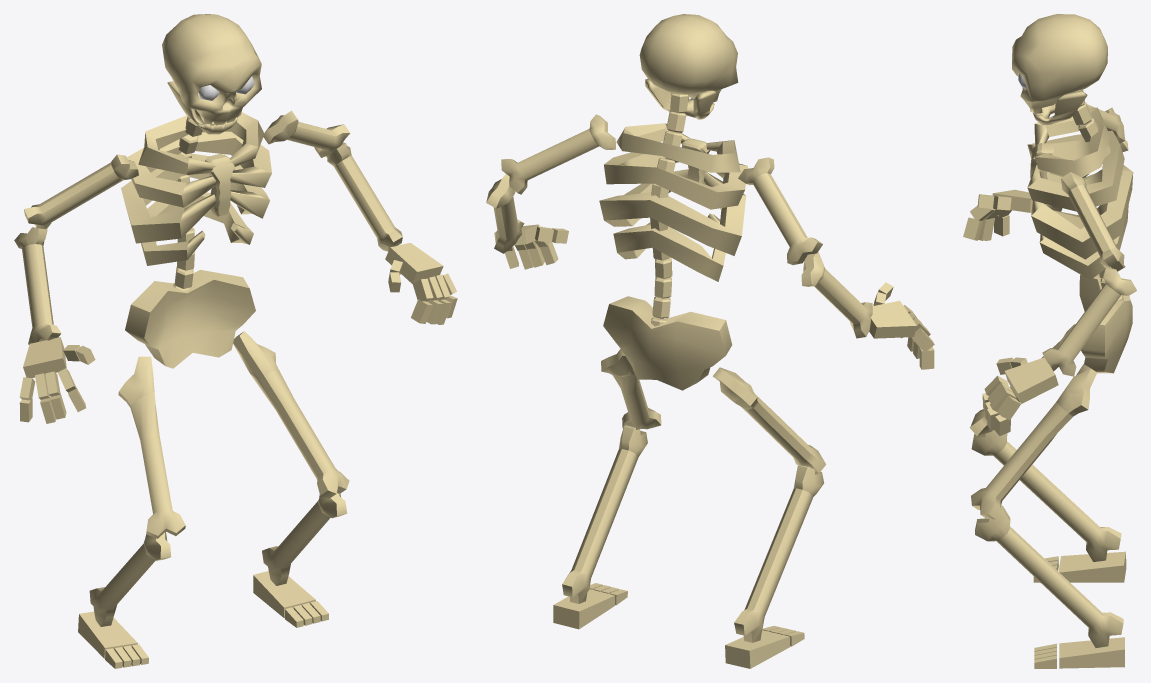
The model's file is skeleton_STANDARD_frame02.fbx.
The picture shows the model from 3 angles, left to right: view 1: azimuth 30°, elevation 25°; view 2: azimuth 150°, elevation 25°; view 3: azimuth 270°, elevation 25°; orthographic projection. The views are drawn at different scales.
Visible parts, largest first — view 1: skeleton_incharacter_frame2; view 2: skeleton_incharacter_frame2; view 3: skeleton_incharacter_frame2.
Part boxes in pixels (<box>): skeleton_incharacter_frame2: <box>14,14,457,668</box>; skeleton_incharacter_frame2: <box>486,14,934,668</box>; skeleton_incharacter_frame2: <box>963,14,1136,668</box>.
Size of the model in its own units: 119 by 159 by 41.84.
